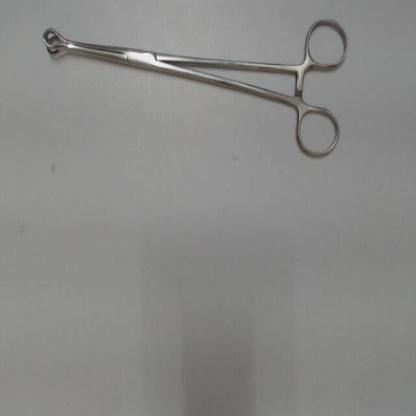8 Babcock Tissue Forceps: (37, 16, 350, 167)
